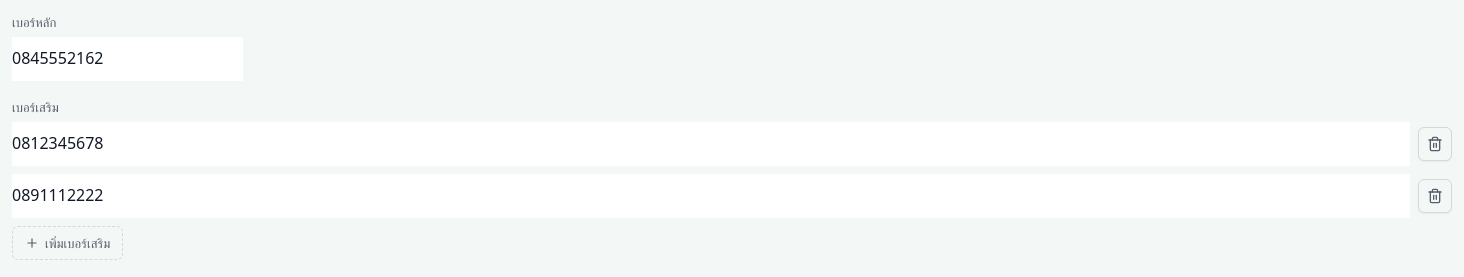
Test: <PlotAccessPhoneFields /> › removing a row deletes it
Expected: the field named "เบอร์เสริมที่ 2" is shown, [12,174,1410,218]
What coordinates should you click on to do the following:
click the button named "ลบเบอร์เสริมที่ 1"
I would click on:
 (1435, 144)
Its box is [1418,127,1452,161].
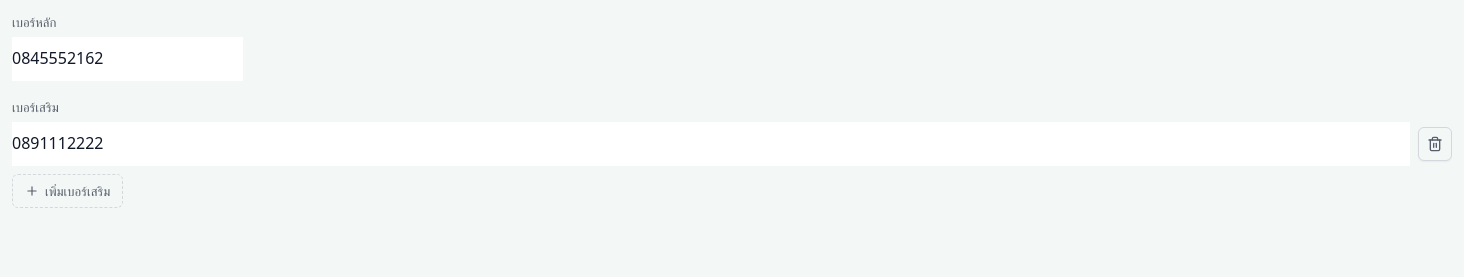
Now the field named "เบอร์เสริมที่ 1" holds "0891112222", box [12,122,1410,166]
